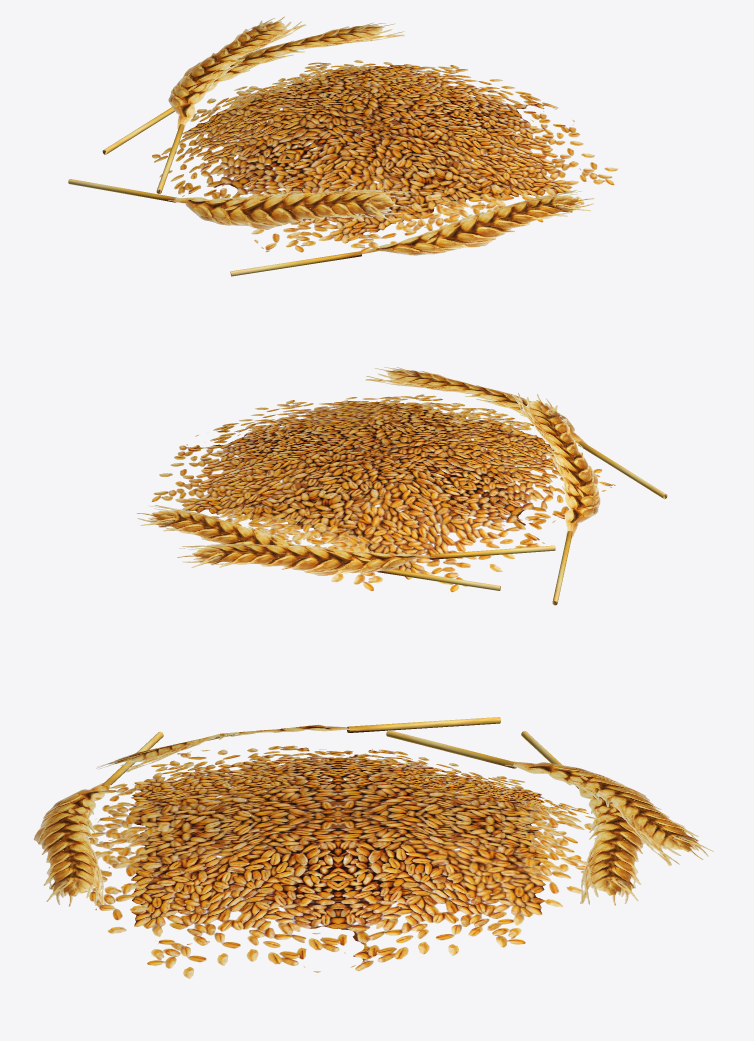
The model's file is Wheat.fbx.
3 views of the same model, one above another, from view 1: azimuth 30°, elevation 25°; view 2: azimuth 150°, elevation 25°; view 3: azimuth 270°, elevation 25° (orthographic). The views are drawn at different scales.
Visible parts, largest first — view 1: pPlane7; view 2: pPlane7; view 3: pPlane7.
Boxes of the visible parts, x1,y1,x2,y2 form: pPlane7: (68, 16, 617, 276); pPlane7: (136, 367, 667, 605); pPlane7: (33, 717, 713, 978).
Size of the model in its own units: 0.2064 by 0.0384 by 0.2174.
2 materials, 2 textured.
